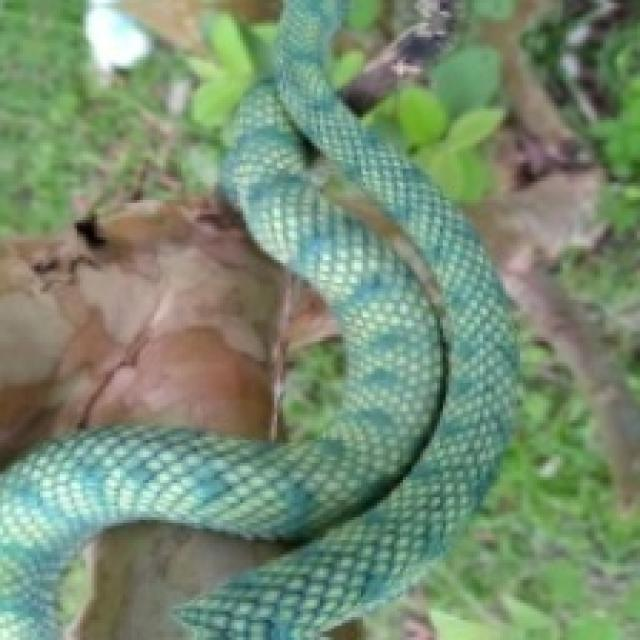north ph temple pitviper: (0, 0, 514, 637)
